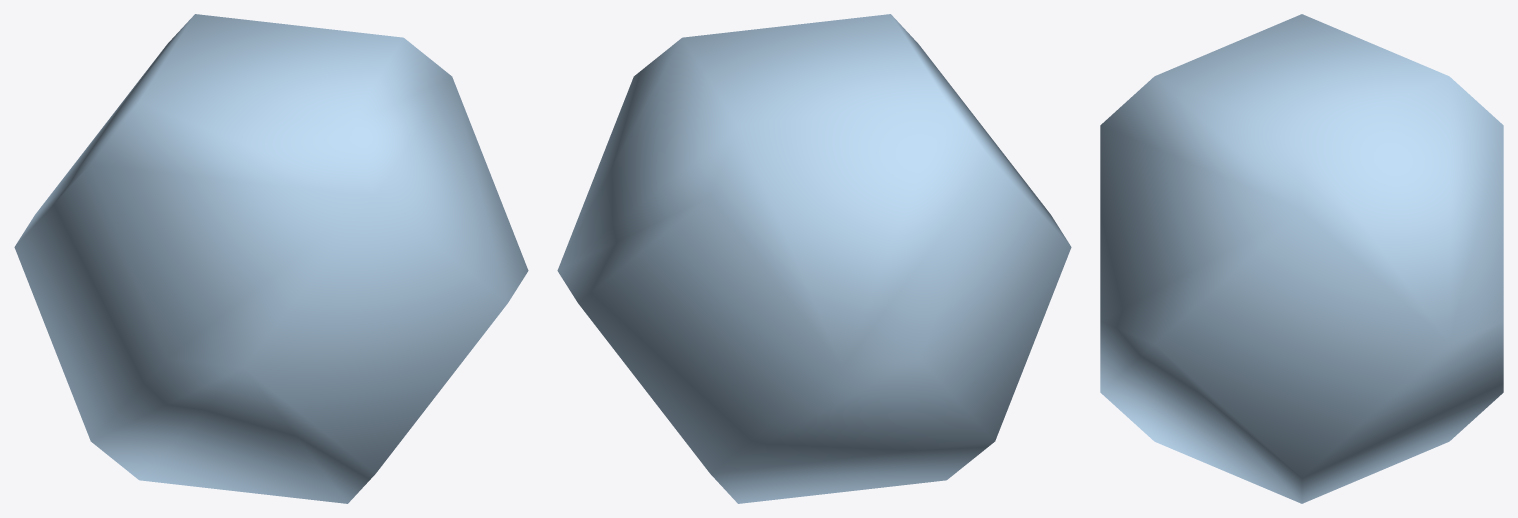
File: fluorite-cuboctahedron.glb
The picture shows the model from 3 angles, left to right: view 1: azimuth 30°, elevation 25°; view 2: azimuth 150°, elevation 25°; view 3: azimuth 270°, elevation 25°; orthographic projection. The views are drawn at different scales.
Visible parts, largest first — view 1: fluorite-cuboctahedron; view 2: fluorite-cuboctahedron; view 3: fluorite-cuboctahedron.
Part boxes in pixels (bbox=[...]): fluorite-cuboctahedron: bbox=[14, 14, 528, 503]; fluorite-cuboctahedron: bbox=[557, 14, 1071, 503]; fluorite-cuboctahedron: bbox=[1100, 14, 1503, 503].
Bounding box in the file's own units: 2 × 2 × 2.
